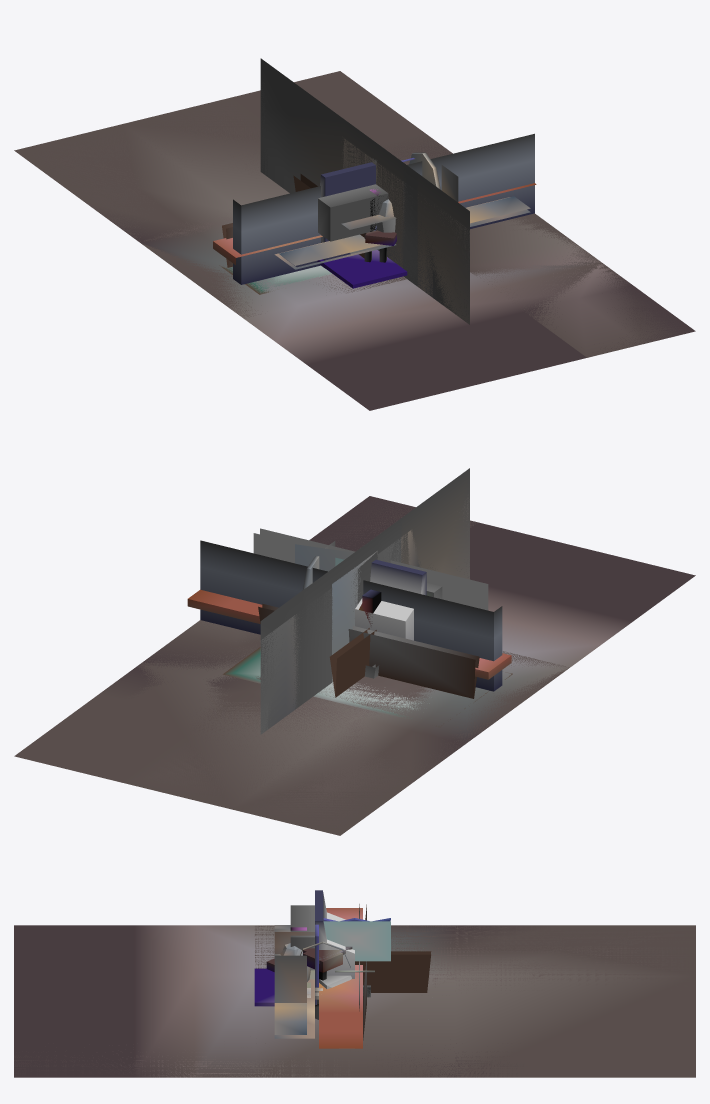
The model's file is backstage_bar_lounge.glb.
3 renders of one model, top to bottom at view 1: azimuth 30°, elevation 25°; view 2: azimuth 150°, elevation 25°; view 3: azimuth 270°, elevation 25°, orthographic. The views are drawn at different scales.
Parts seen in each view (by area): view 1: 0x65f_Backstage_Bar_Lounge_Pool_Table_Farthest_Left_Leg, 0x660_Backstage_Bar_Lounge_Floor_Left_Section, 0x686_Backstage_Bar_Lounge_Wall_Bracket_For_Television_Set, 0x648_Backstage_Bar_Lounge_Back_Wall_Lava_Lamp, 0x687_Backstage_Bar_Lounge_Left_Wall_Farthest_Upper_Section, 0x652_Backstage_Bar_Lounge_Left_Table_Stool, 0x680_Backstage_Bar_Lounge_Cabinet_Behind_Bar_Right_Frame, 0x679_Backstage_Bar_Lounge_Table_Stand, 0x688_Backstage_Bar_Lounge_Left_Wall_Farthest_Lower_Section, 0x663_Backstage_Bar_Lounge_Cabinet_Behind_Bar_Wooden_Ice_Keg, 0x671_Backstage_Bar_Lounge_Cabinet_Behind_Bar_Left_Bottle_Ta, 0x681_Backstage_Bar_Lounge_Cabinet_Behind_Bar_Middle_Horizon (+2 smaller); view 2: 0x65f_Backstage_Bar_Lounge_Pool_Table_Farthest_Left_Leg, 0x660_Backstage_Bar_Lounge_Floor_Left_Section, 0x648_Backstage_Bar_Lounge_Back_Wall_Lava_Lamp, 0x686_Backstage_Bar_Lounge_Wall_Bracket_For_Television_Set, 0x688_Backstage_Bar_Lounge_Left_Wall_Farthest_Lower_Section, 0x673_Backstage_Bar_Lounge_Pool_Table_Left_Side, 0x687_Backstage_Bar_Lounge_Left_Wall_Farthest_Upper_Section, 0x689_Backstage_Bar_Lounge_Left_Wall_Nearest_Upper_Section, 0x663_Backstage_Bar_Lounge_Cabinet_Behind_Bar_Wooden_Ice_Keg, 0x671_Backstage_Bar_Lounge_Cabinet_Behind_Bar_Left_Bottle_Ta, 0x64a_Backstage_Bar_Lounge_Bar_Foot_Rest, 0x643_Backstage_Bar_Lounge_Cabinet_Behind_Bar_Section_Behind (+5 smaller); view 3: 0x65f_Backstage_Bar_Lounge_Pool_Table_Farthest_Left_Leg, 0x660_Backstage_Bar_Lounge_Floor_Left_Section, 0x64a_Backstage_Bar_Lounge_Bar_Foot_Rest, 0x672_Backstage_Bar_Lounge_Pool_Table_Surface, 0x66c_Backstage_Bar_Lounge_APA_Sign_Image, 0x681_Backstage_Bar_Lounge_Cabinet_Behind_Bar_Middle_Horizon, 0x663_Backstage_Bar_Lounge_Cabinet_Behind_Bar_Wooden_Ice_Keg, 0x680_Backstage_Bar_Lounge_Cabinet_Behind_Bar_Right_Frame, 0x652_Backstage_Bar_Lounge_Left_Table_Stool, 0x679_Backstage_Bar_Lounge_Table_Stand, 0x64f_Backstage_Bar_Lounge_Bar_Stool_2, 0x67d_Backstage_Bar_Lounge_Cabinet_Behind_Bar_Upper_Frame (+1 smaller).
Boxes of the visible parts, left/top/right/bottom form: 0x65f_Backstage_Bar_Lounge_Pool_Table_Farthest_Left_Leg: left=14, top=71, right=695, bottom=410; 0x660_Backstage_Bar_Lounge_Floor_Left_Section: left=16, top=71, right=694, bottom=357; 0x686_Backstage_Bar_Lounge_Wall_Bracket_For_Television_Set: left=260, top=58, right=469, bottom=324; 0x648_Backstage_Bar_Lounge_Back_Wall_Lava_Lamp: left=233, top=133, right=534, bottom=284; 0x687_Backstage_Bar_Lounge_Left_Wall_Farthest_Upper_Section: left=260, top=83, right=469, bottom=315; 0x652_Backstage_Bar_Lounge_Left_Table_Stool: left=318, top=184, right=388, bottom=241; 0x680_Backstage_Bar_Lounge_Cabinet_Behind_Bar_Right_Frame: left=279, top=196, right=530, bottom=265; 0x679_Backstage_Bar_Lounge_Table_Stand: left=317, top=250, right=407, bottom=288; 0x688_Backstage_Bar_Lounge_Left_Wall_Farthest_Lower_Section: left=400, top=162, right=417, bottom=285; 0x663_Backstage_Bar_Lounge_Cabinet_Behind_Bar_Wooden_Ice_Keg: left=320, top=162, right=375, bottom=267; 0x671_Backstage_Bar_Lounge_Cabinet_Behind_Bar_Left_Bottle_Ta: left=219, top=265, right=331, bottom=294; 0x681_Backstage_Bar_Lounge_Cabinet_Behind_Bar_Middle_Horizon: left=341, top=165, right=458, bottom=229; 0x65f_Backstage_Bar_Lounge_Pool_Table_Farthest_Left_Leg: left=15, top=496, right=695, bottom=835; 0x660_Backstage_Bar_Lounge_Floor_Left_Section: left=14, top=496, right=569, bottom=835; 0x648_Backstage_Bar_Lounge_Back_Wall_Lava_Lamp: left=200, top=540, right=502, bottom=691; 0x686_Backstage_Bar_Lounge_Wall_Bracket_For_Television_Set: left=260, top=468, right=469, bottom=734; 0x688_Backstage_Bar_Lounge_Left_Wall_Farthest_Lower_Section: left=281, top=518, right=402, bottom=707; 0x673_Backstage_Bar_Lounge_Pool_Table_Left_Side: left=258, top=606, right=475, bottom=698; 0x687_Backstage_Bar_Lounge_Left_Wall_Farthest_Upper_Section: left=260, top=498, right=469, bottom=731; 0x689_Backstage_Bar_Lounge_Left_Wall_Nearest_Upper_Section: left=290, top=537, right=401, bottom=708; 0x663_Backstage_Bar_Lounge_Cabinet_Behind_Bar_Wooden_Ice_Keg: left=355, top=559, right=426, bottom=640; 0x671_Backstage_Bar_Lounge_Cabinet_Behind_Bar_Left_Bottle_Ta: left=223, top=647, right=512, bottom=726; 0x64a_Backstage_Bar_Lounge_Bar_Foot_Rest: left=187, top=589, right=511, bottom=679; 0x643_Backstage_Bar_Lounge_Cabinet_Behind_Bar_Section_Behind: left=253, top=533, right=482, bottom=608; 0x65f_Backstage_Bar_Lounge_Pool_Table_Farthest_Left_Leg: left=14, top=925, right=695, bottom=1077; 0x660_Backstage_Bar_Lounge_Floor_Left_Section: left=14, top=925, right=695, bottom=1077; 0x64a_Backstage_Bar_Lounge_Bar_Foot_Rest: left=319, top=908, right=362, bottom=1048; 0x672_Backstage_Bar_Lounge_Pool_Table_Surface: left=355, top=954, right=430, bottom=992; 0x66c_Backstage_Bar_Lounge_APA_Sign_Image: left=323, top=921, right=390, bottom=961; 0x681_Backstage_Bar_Lounge_Cabinet_Behind_Bar_Middle_Horizon: left=274, top=928, right=306, bottom=1002; 0x663_Backstage_Bar_Lounge_Cabinet_Behind_Bar_Wooden_Ice_Keg: left=315, top=890, right=354, bottom=978; 0x680_Backstage_Bar_Lounge_Cabinet_Behind_Bar_Right_Frame: left=274, top=925, right=306, bottom=1034; 0x652_Backstage_Bar_Lounge_Left_Table_Stool: left=290, top=905, right=314, bottom=970; 0x679_Backstage_Bar_Lounge_Table_Stand: left=254, top=968, right=274, bottom=1006; 0x64f_Backstage_Bar_Lounge_Bar_Stool_2: left=303, top=949, right=342, bottom=1019; 0x67d_Backstage_Bar_Lounge_Cabinet_Behind_Bar_Upper_Frame: left=274, top=979, right=314, bottom=1038.
Bounding box in the file's own units: 5.51 × 2.76 × 10.41.
